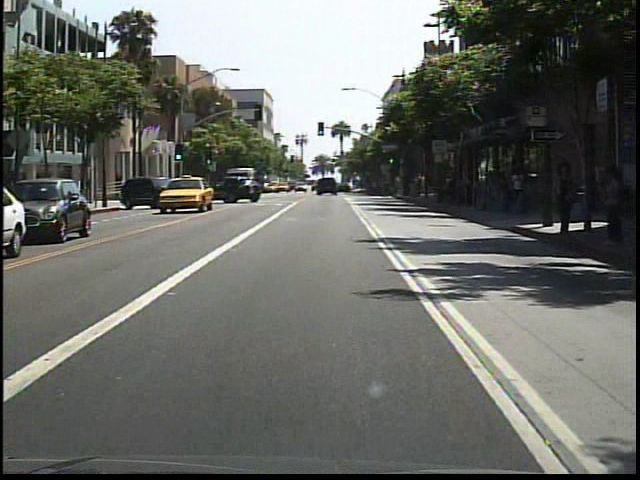person: (593, 164, 629, 246), (546, 157, 578, 240), (508, 167, 528, 213)
